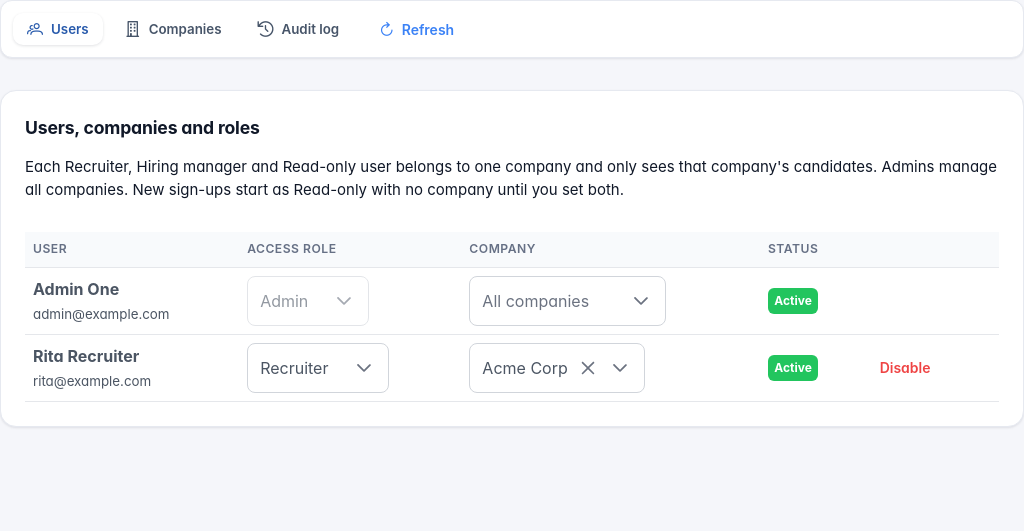
Test: AdminModule › explains a refused company deletion
Click the tab with class "admin-tab" showing "Companies" at (173, 29), box x1=111 y1=13 x2=236 y2=45
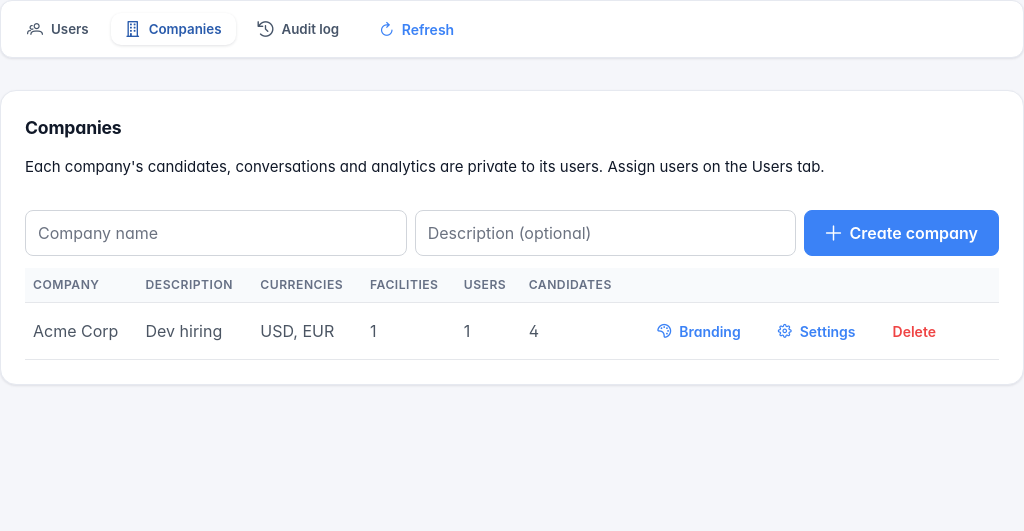
Click the button "Delete" at (914, 331), box x1=874 y1=311 x2=954 y2=351
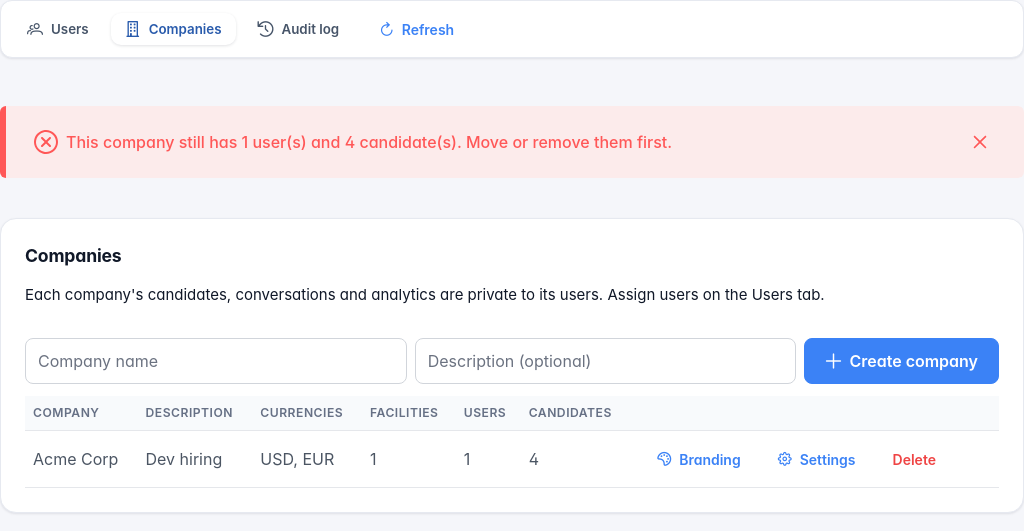
Check: the text "still has 1 user(s)" is shown, box x1=66 y1=132 x2=672 y2=152
